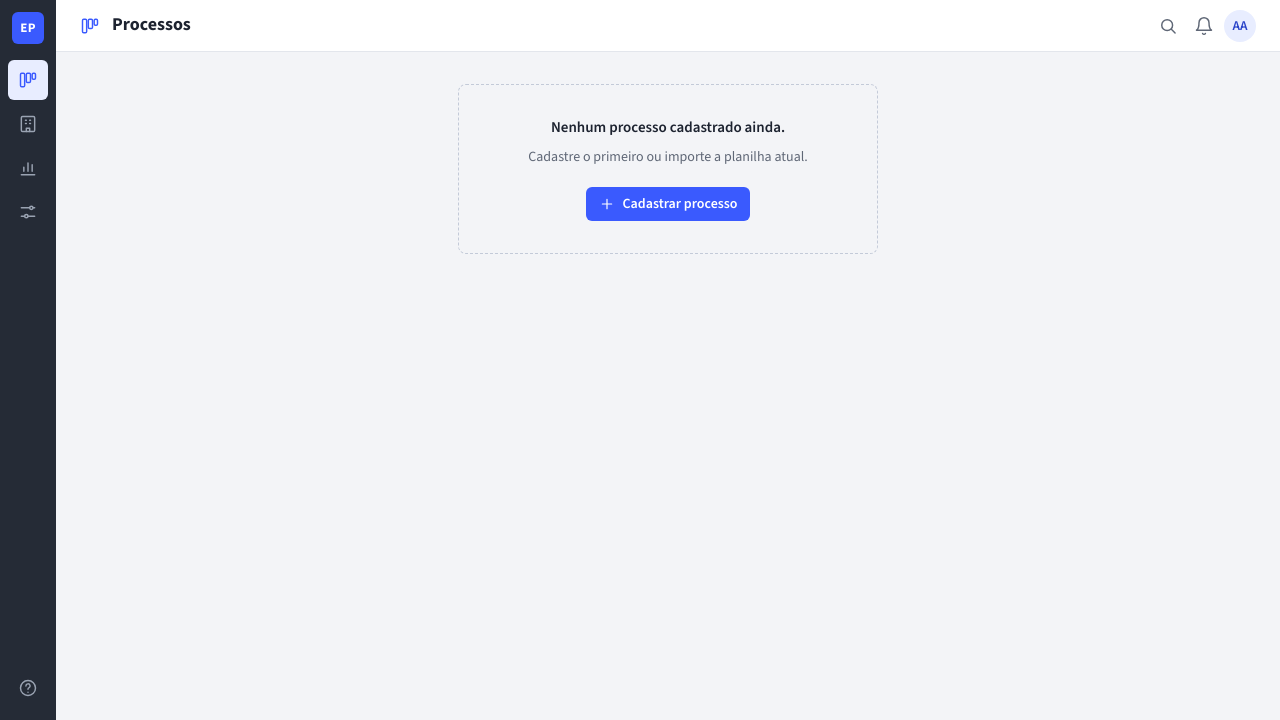
it: a aba Planilhas vem depois de Catálogo de etapas, só para o administrador
This screenshot has width=1280, height=720.
Step 1. Click the button named "Administração" → (28, 212), box [8,192,48,232]
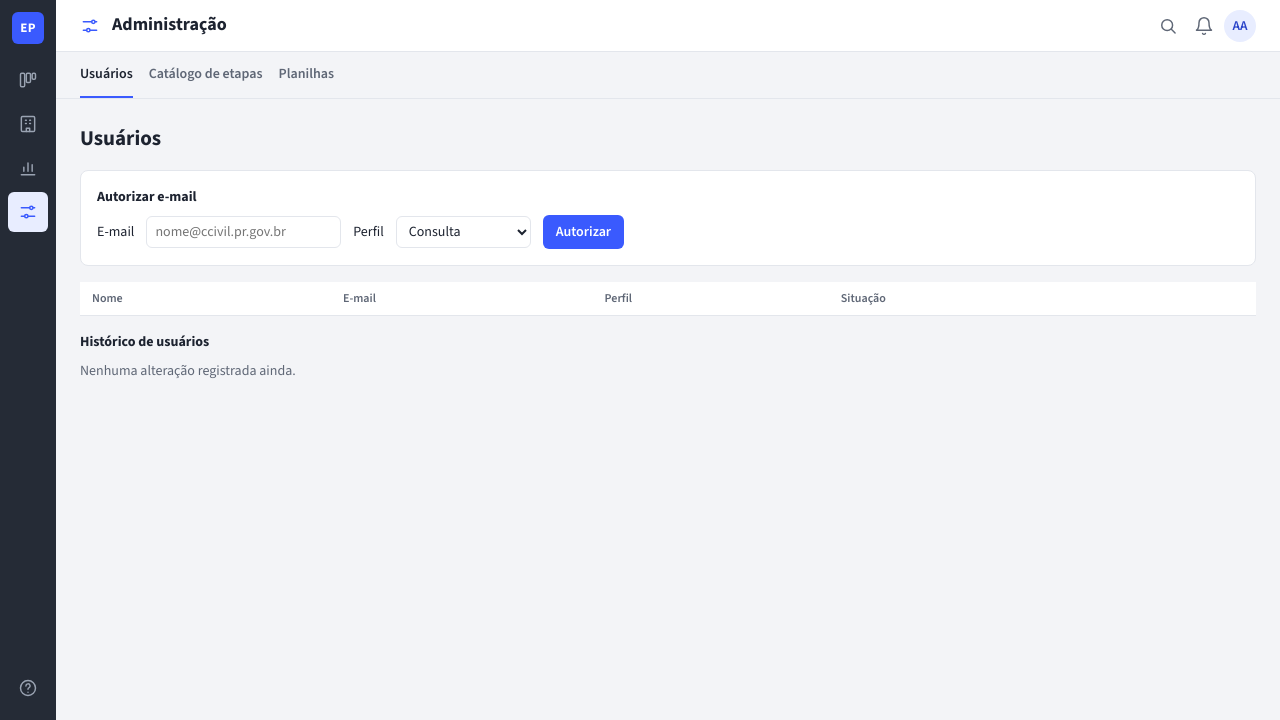
Expected: the tabs read "Usuários", "Catálogo de etapas", "Planilhas", in this order, [80,52,133,98]; [149,52,262,98]; [278,52,334,98]
